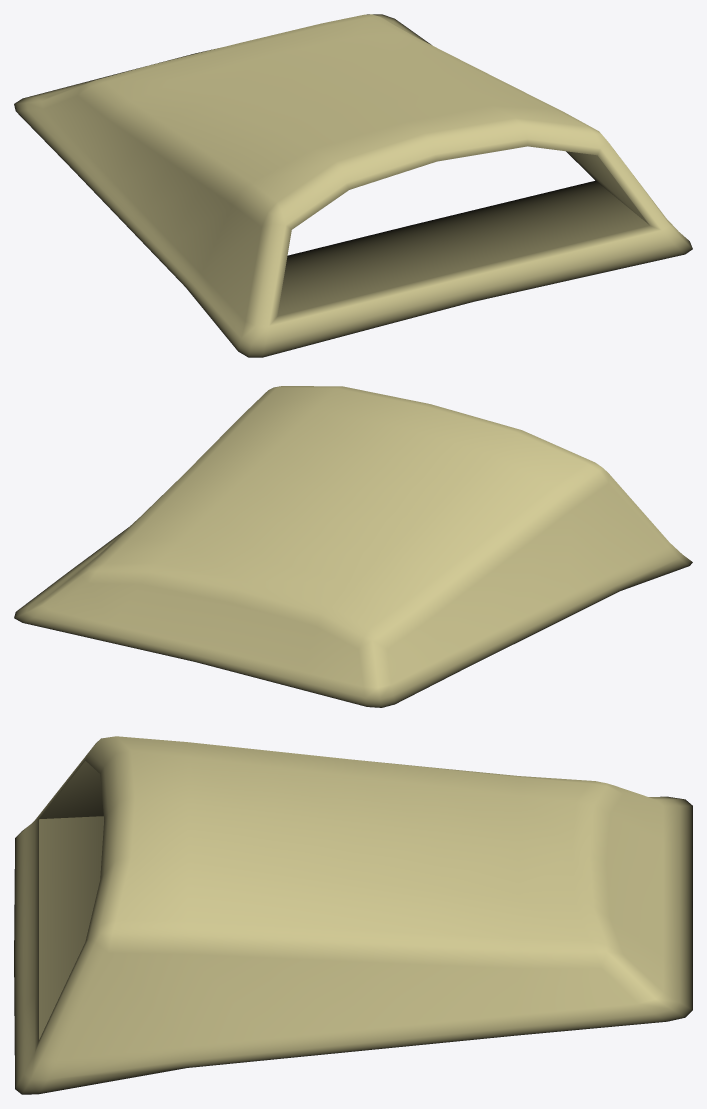
Rendered from R34_RoofScoop_01_Duco.fbx.
3 views of the same model, one above another, from view 1: azimuth 30°, elevation 25°; view 2: azimuth 150°, elevation 25°; view 3: azimuth 270°, elevation 25° (orthographic). The views are drawn at different scales.
Visible parts, largest first — view 1: R34_RoofScoop_01_Duco; view 2: R34_RoofScoop_01_Duco; view 3: R34_RoofScoop_01_Duco.
Boxes of the visible parts, <box> form: R34_RoofScoop_01_Duco: <box>14,14,692,357</box>; R34_RoofScoop_01_Duco: <box>14,386,692,707</box>; R34_RoofScoop_01_Duco: <box>14,736,692,1094</box>.
Size of the model in its own units: 25.92 by 7.48 by 27.75.
